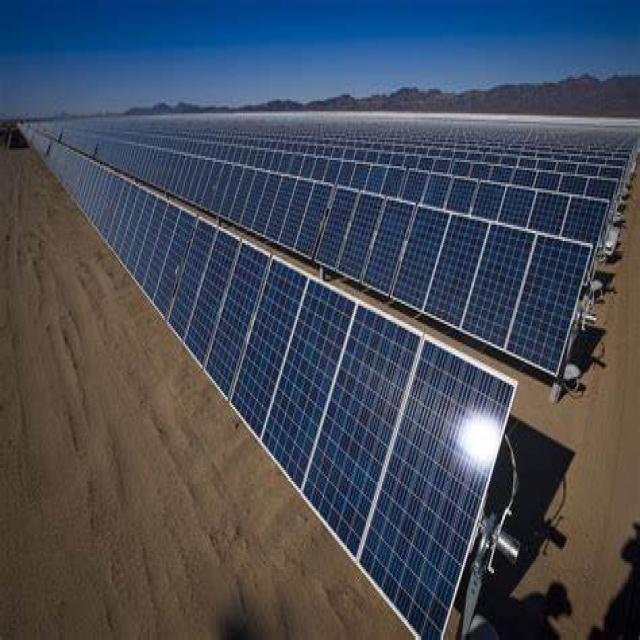clean-solar-panel: (26, 128, 514, 638), (45, 120, 635, 376)
